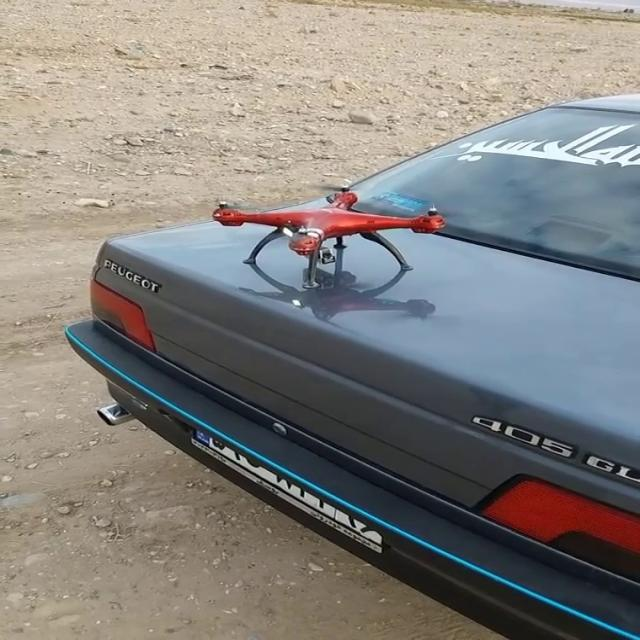drone: (202, 181, 458, 292)
